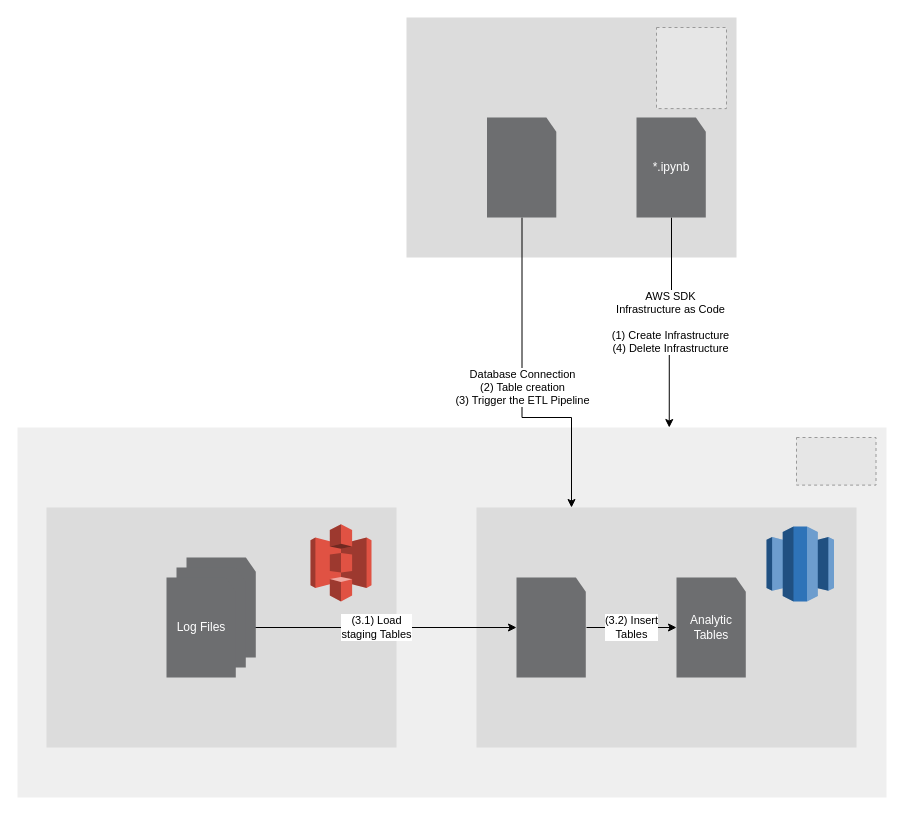
The diagram is 903 pixels wide and 814 high, and some of its shapes have lost their labels. Grey dashed boxes stand in for pictures. Here are the shapes that lost their labels. From the top down, the box of each, then its label:
(486, 117, 556, 217): *.py
(516, 577, 586, 677): Staging Tables
